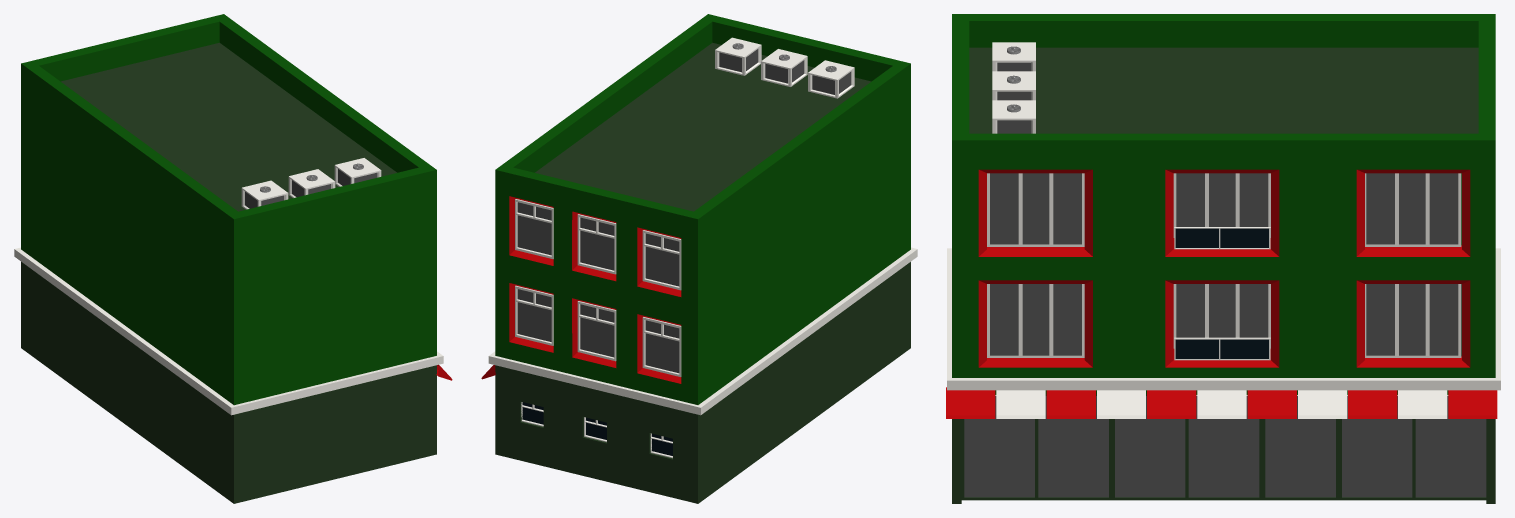
Rendered from Shop2.fbx.
3 renders of one model, left to right at view 1: azimuth 30°, elevation 25°; view 2: azimuth 150°, elevation 25°; view 3: azimuth 270°, elevation 25°, orthographic. The views are drawn at different scales.
Visible parts, largest first — view 1: shop2; view 2: shop2; view 3: shop2.
Boxes of the visible parts, <box> form: shop2: <box>14,14,452,503</box>; shop2: <box>481,14,917,503</box>; shop2: <box>946,14,1500,503</box>.
Bounding box in the file's own units: 6.88 × 8.47 × 11.71.
